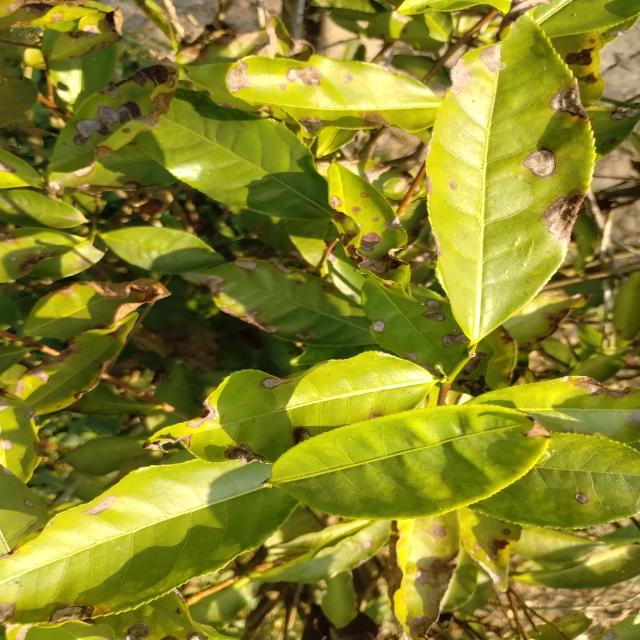Leaf: (427, 14, 595, 343), (0, 459, 297, 624), (270, 404, 550, 520), (148, 351, 434, 462), (135, 88, 332, 219), (187, 55, 441, 137), (194, 257, 373, 347), (476, 434, 640, 528), (50, 65, 178, 172), (14, 312, 138, 415), (467, 376, 640, 443), (328, 163, 413, 299), (362, 275, 467, 372), (23, 278, 170, 339), (392, 512, 459, 640), (263, 521, 390, 583), (50, 143, 176, 191), (96, 592, 221, 640), (101, 226, 224, 274), (514, 544, 640, 589), (458, 508, 521, 591), (504, 292, 589, 350), (49, 44, 118, 112), (0, 227, 79, 282), (0, 465, 47, 555), (531, 0, 640, 37), (45, 9, 121, 60), (0, 392, 40, 483), (0, 189, 88, 228), (513, 526, 604, 563), (65, 436, 150, 475), (587, 106, 640, 161), (67, 384, 161, 415), (194, 30, 266, 65), (321, 573, 357, 628), (570, 349, 628, 382), (613, 271, 640, 340), (0, 147, 43, 188), (422, 10, 453, 43), (312, 0, 376, 14), (43, 29, 63, 49)
